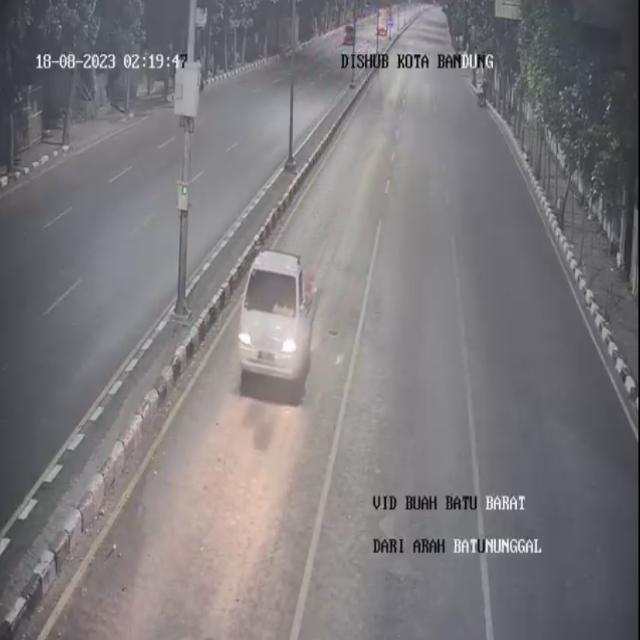cars: (235, 250, 321, 397)
